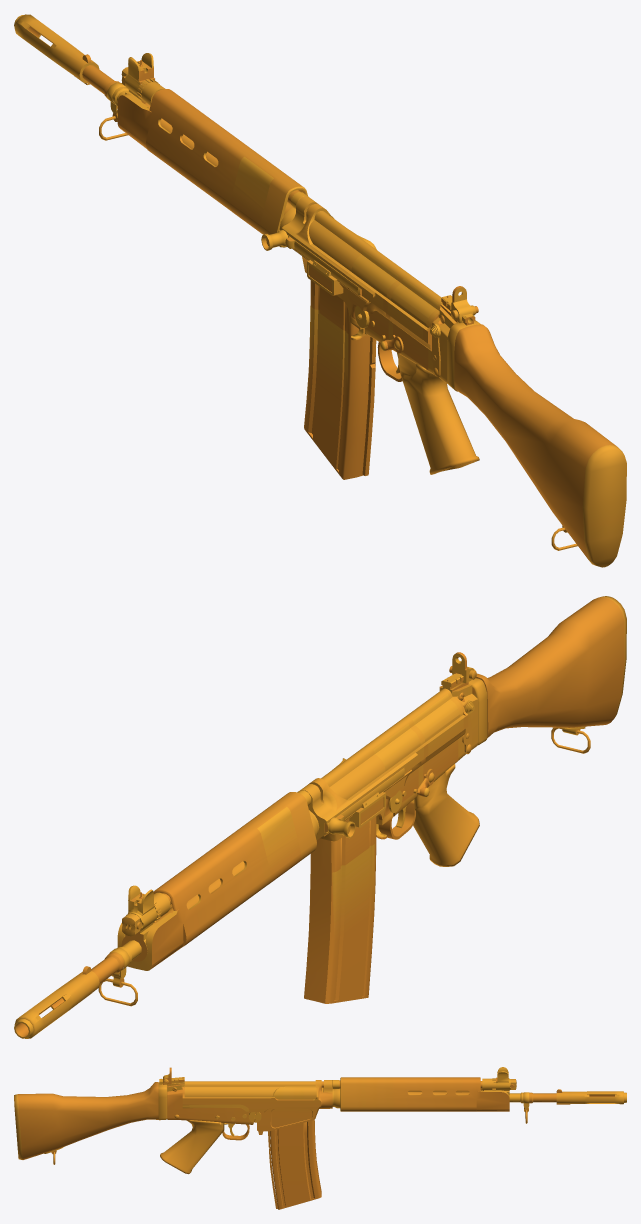
The model's file is fnfal.glb.
3 renders of one model, top to bottom at view 1: azimuth 30°, elevation 25°; view 2: azimuth 150°, elevation 25°; view 3: azimuth 270°, elevation 25°, orthographic. The views are drawn at different scales.
Visible parts, largest first — view 1: LOD_Template, Magazine1, Sticker2, Sticker4, Sticker3, Sticker1, Gunlock1; view 2: LOD_Template, Magazine1, Sticker2, Sticker4, Sticker3, Sticker1, Gunlock1, StatTrack.001; view 3: LOD_Template, Magazine1.
Boxes of the visible parts, x1,y1,x2,y2 form: LOD_Template: (14,14,626,567); Magazine1: (304,280,376,479); Sticker2: (308,306,348,406); Sticker4: (387,278,438,369); Sticker3: (346,250,398,339); Sticker1: (230,156,273,233); Gunlock1: (261,230,361,295); LOD_Template: (14,596,626,1038); Magazine1: (304,816,376,1003); Sticker2: (332,844,374,945); Sticker4: (412,694,463,780); Sticker3: (373,724,423,816); Sticker1: (257,807,301,883); Gunlock1: (324,768,404,838); StatTrack.001: (349,792,385,827); LOD_Template: (14,1067,626,1174); Magazine1: (268,1120,321,1209).
Bounding box in the file's own units: 0.0589 × 0.2331 × 0.9335.
Materials: 5 (5 with a texture image).
